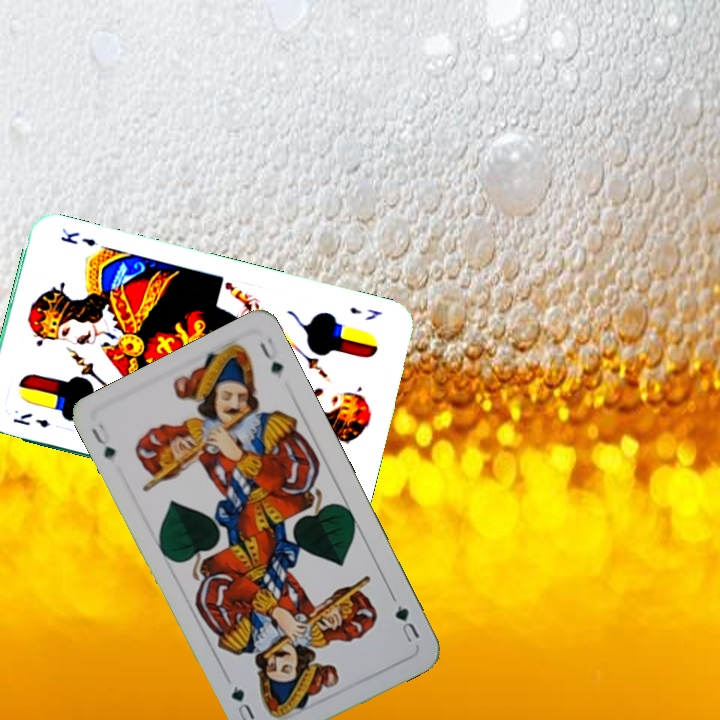EK: (9, 408, 52, 431), (345, 302, 385, 323)
GU: (388, 592, 423, 646), (87, 419, 119, 462)
